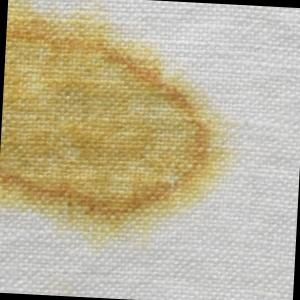Oil Stain: (1, 1, 249, 252)
